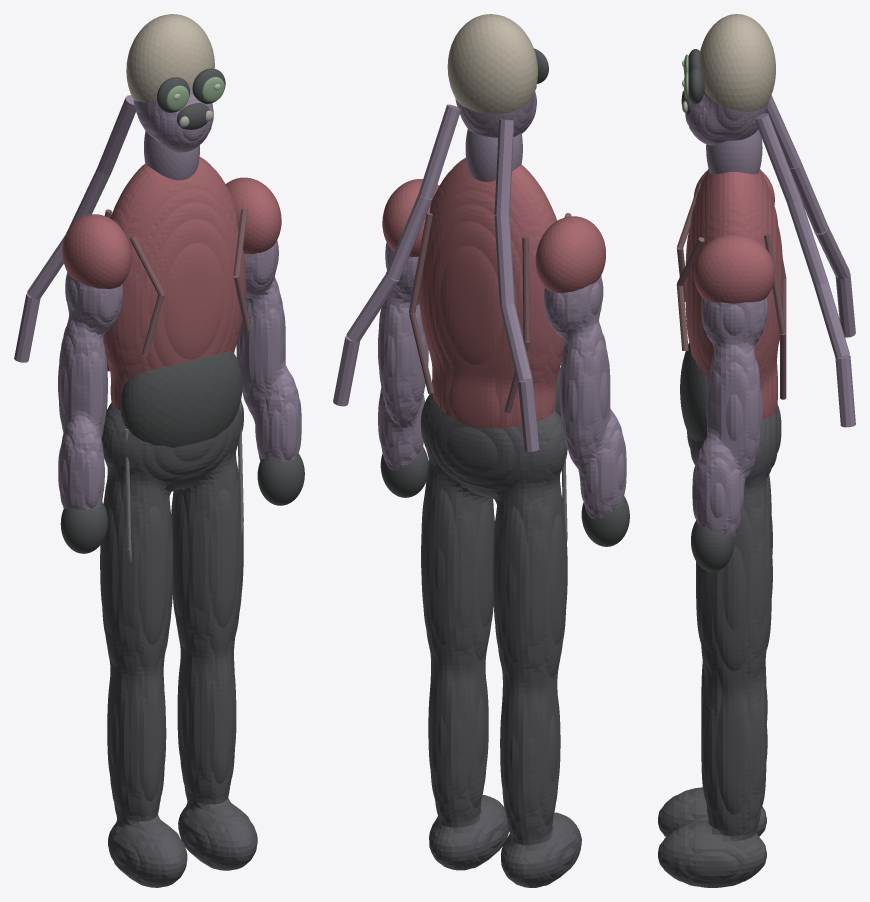
Rendered from marhx_prototype.glb.
3 renders of one model, left to right at view 1: azimuth 30°, elevation 25°; view 2: azimuth 150°, elevation 25°; view 3: azimuth 270°, elevation 25°, orthographic. The views are drawn at different scales.
Parts seen in each view (by area): view 1: lower_body_1, torso_2, bare_arm_-1_3, bare_arm_1_8, waist_panel_27, helmet_shell_15, short_sleeve_-1_5, headtail_-1_24, short_sleeve_1_10, head_14, glove_1_9, glove_-1_4 (+4 smaller); view 2: lower_body_1, torso_2, bare_arm_-1_3, bare_arm_1_8, helmet_shell_15, headtail_-1_24, headtail_1_26, short_sleeve_-1_5, short_sleeve_1_10, neck_13, head_14, glove_-1_4 (+3 smaller); view 3: lower_body_1, bare_arm_1_8, torso_2, helmet_shell_15, headtail_1_26, short_sleeve_1_10, headtail_-1_24, head_14, waist_panel_27, neck_13, glove_1_9, back_harness_1_29 (+3 smaller).
Part boxes in pixels (x1,y1,x2,y2): lower_body_1: (100, 400, 257, 887); torso_2: (103, 157, 246, 410); bare_arm_-1_3: (58, 272, 122, 510); bare_arm_1_8: (236, 240, 301, 462); waist_panel_27: (120, 351, 242, 447); helmet_shell_15: (126, 14, 214, 102); short_sleeve_-1_5: (62, 214, 131, 288); headtail_-1_24: (14, 95, 135, 362); short_sleeve_1_10: (226, 177, 281, 254); head_14: (133, 88, 213, 152); glove_1_9: (257, 453, 304, 505); glove_-1_4: (60, 502, 107, 553); lower_body_1: (421, 393, 581, 887); torso_2: (418, 157, 564, 429); bare_arm_-1_3: (544, 276, 626, 520); bare_arm_1_8: (378, 242, 428, 470); helmet_shell_15: (447, 14, 537, 114); headtail_-1_24: (494, 119, 539, 451); headtail_1_26: (333, 104, 460, 406); short_sleeve_-1_5: (535, 216, 605, 293); short_sleeve_1_10: (382, 179, 438, 256); neck_13: (465, 129, 522, 181); head_14: (455, 91, 536, 137); glove_-1_4: (581, 496, 629, 546); lower_body_1: (658, 404, 781, 887); bare_arm_1_8: (692, 298, 767, 538); torso_2: (685, 169, 783, 419); helmet_shell_15: (698, 14, 775, 112); headtail_1_26: (754, 113, 855, 427); short_sleeve_1_10: (693, 234, 774, 303); headtail_-1_24: (766, 95, 855, 337); head_14: (685, 91, 767, 145); waist_panel_27: (680, 342, 707, 441); neck_13: (706, 129, 762, 174); glove_1_9: (691, 520, 734, 571); back_harness_1_29: (763, 233, 786, 399).
Bounding box in the file's own units: 0.51 × 1.73 × 0.3643.
